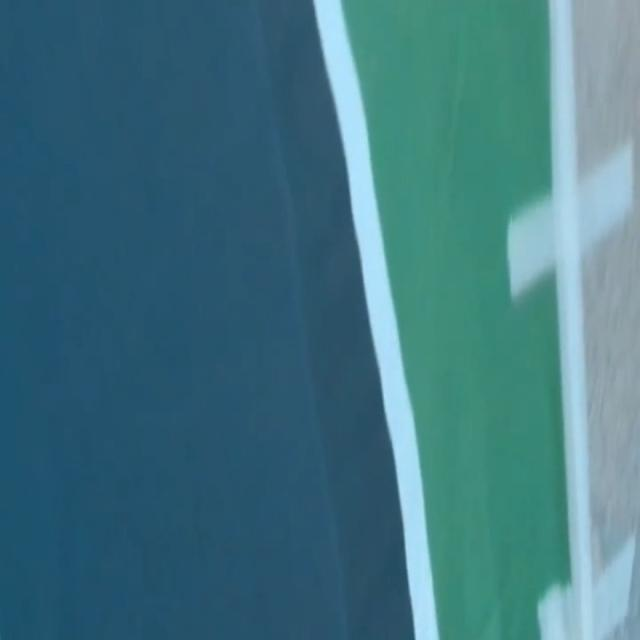right: (313, 0, 437, 639)
